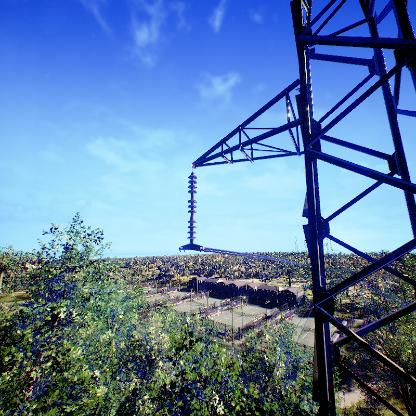insulator: (185, 173, 198, 243)
